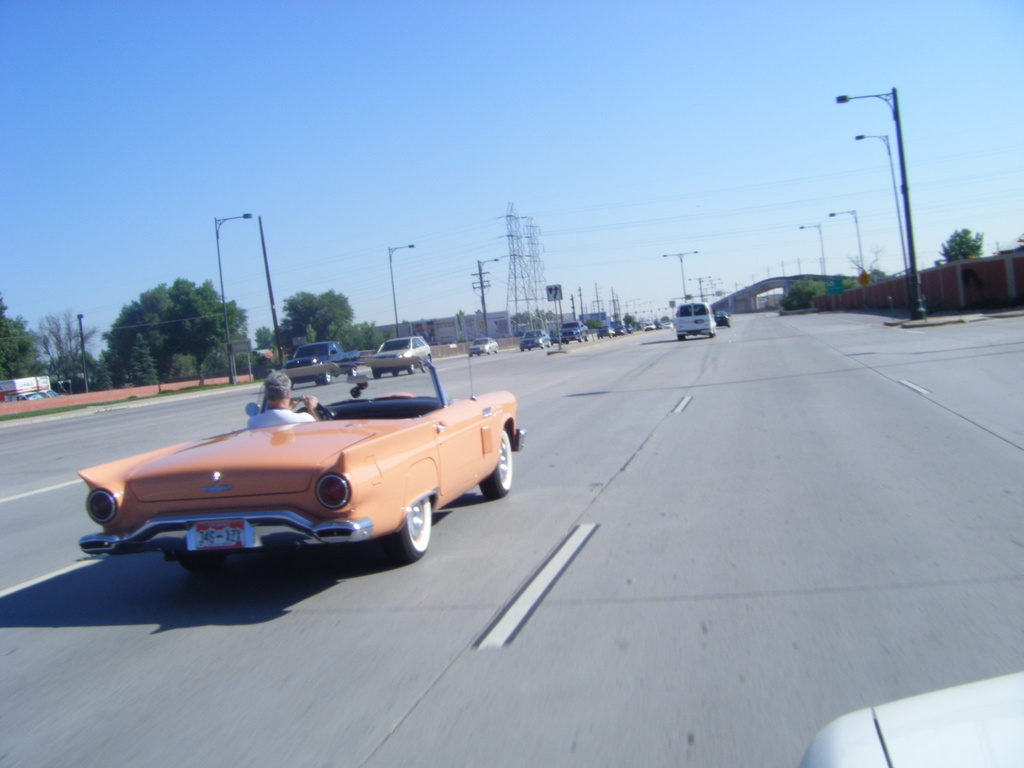mobil: (75, 394, 523, 566), (366, 341, 435, 374), (669, 301, 719, 343), (465, 336, 498, 356)
